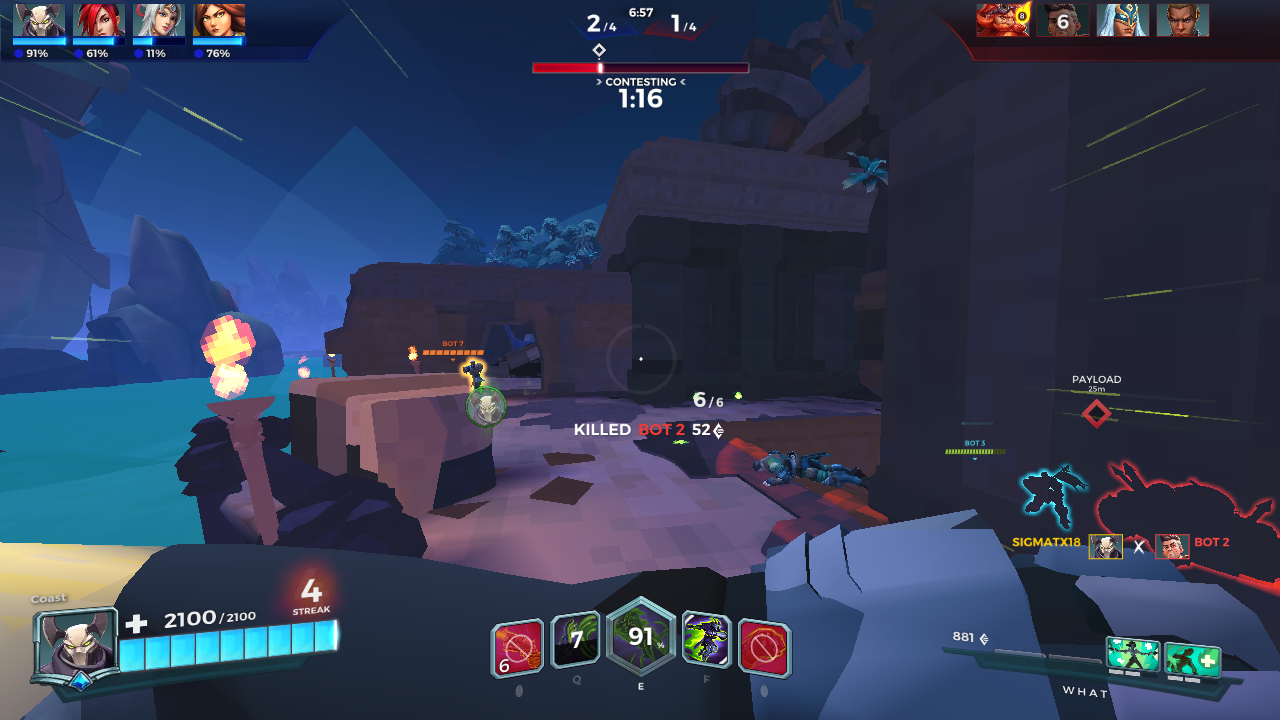model: (466, 358, 484, 397)
